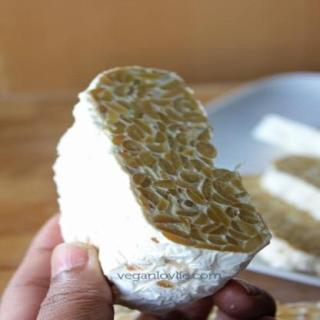Tempe: (51, 64, 274, 312)
